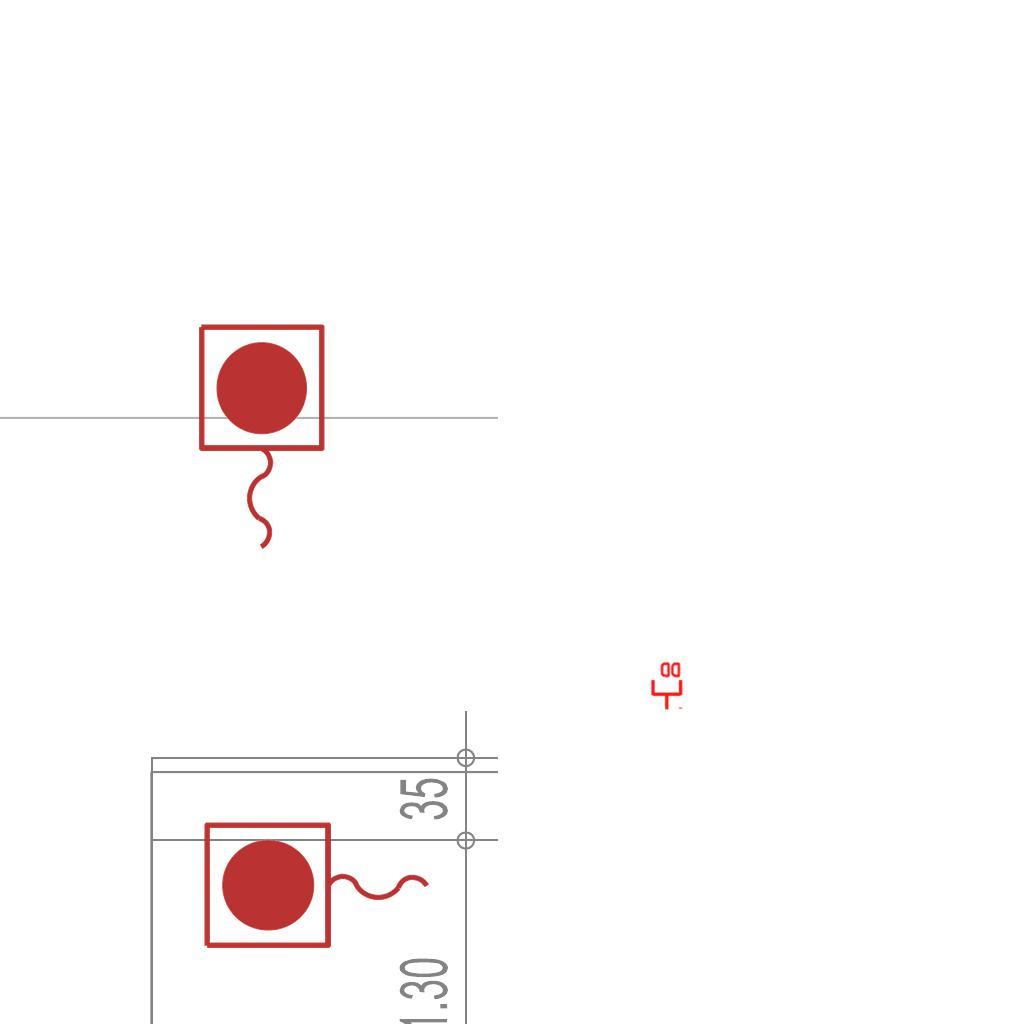Datenanschluss_zweifach: (649, 660, 683, 711)
Zugtaster: (188, 316, 332, 560), (196, 815, 440, 959)
